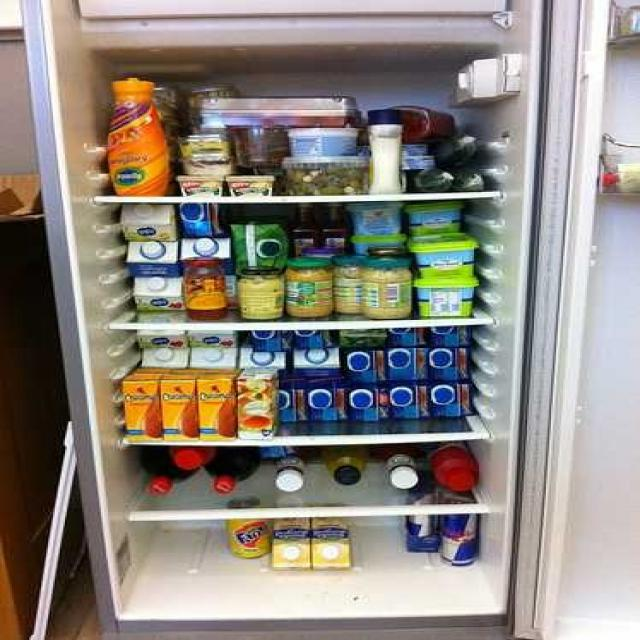refrigerator: (16, 1, 562, 631)
